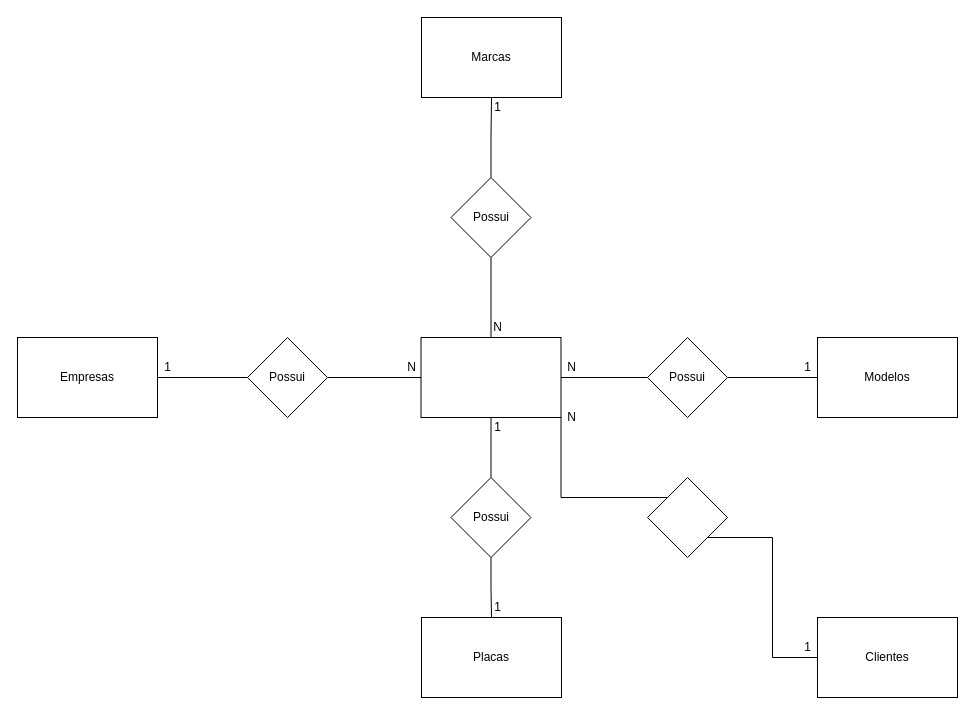
Some shapes in this 975 by 715 pixel diagram are drawn without their labels. Each missing label, with the box of its shape:
Aluga: (646, 476, 728, 558)
Veículos: (420, 336, 561, 418)
